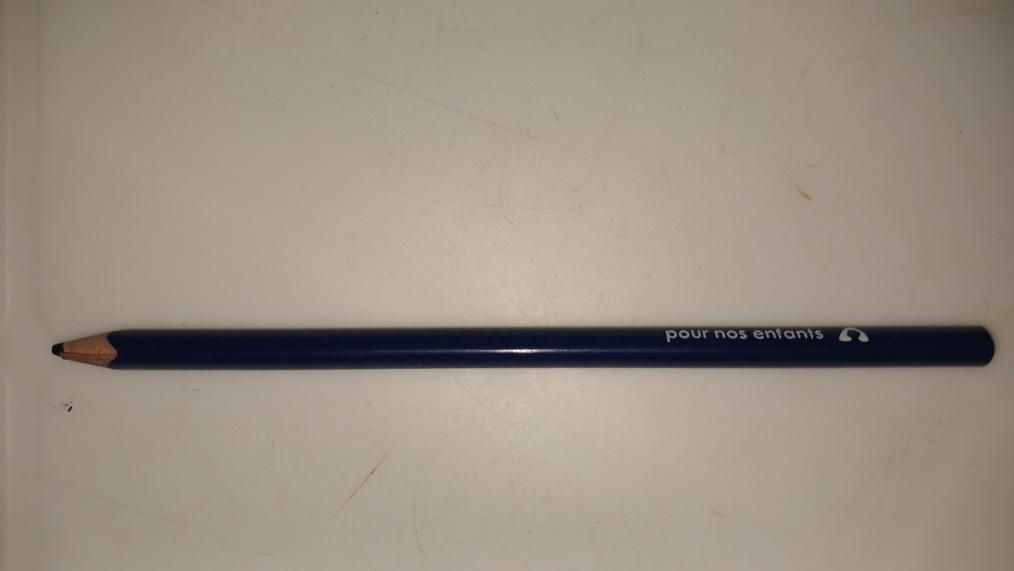Pencil: (46, 330, 998, 371)
